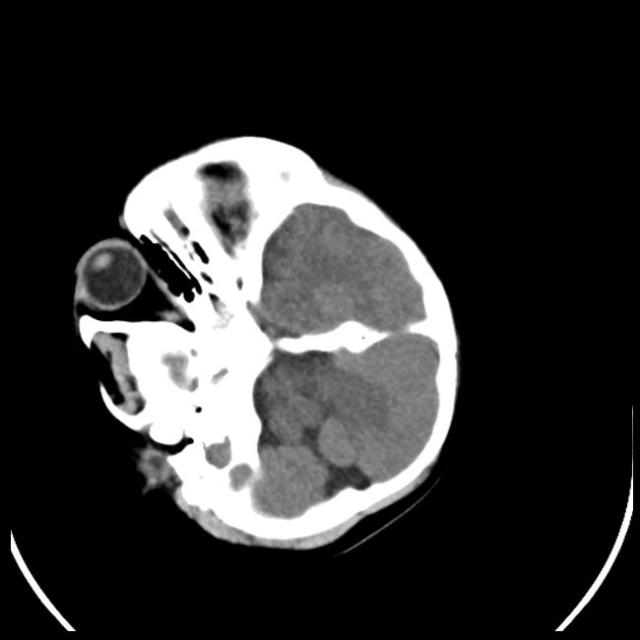lesion: (66, 130, 465, 554)
